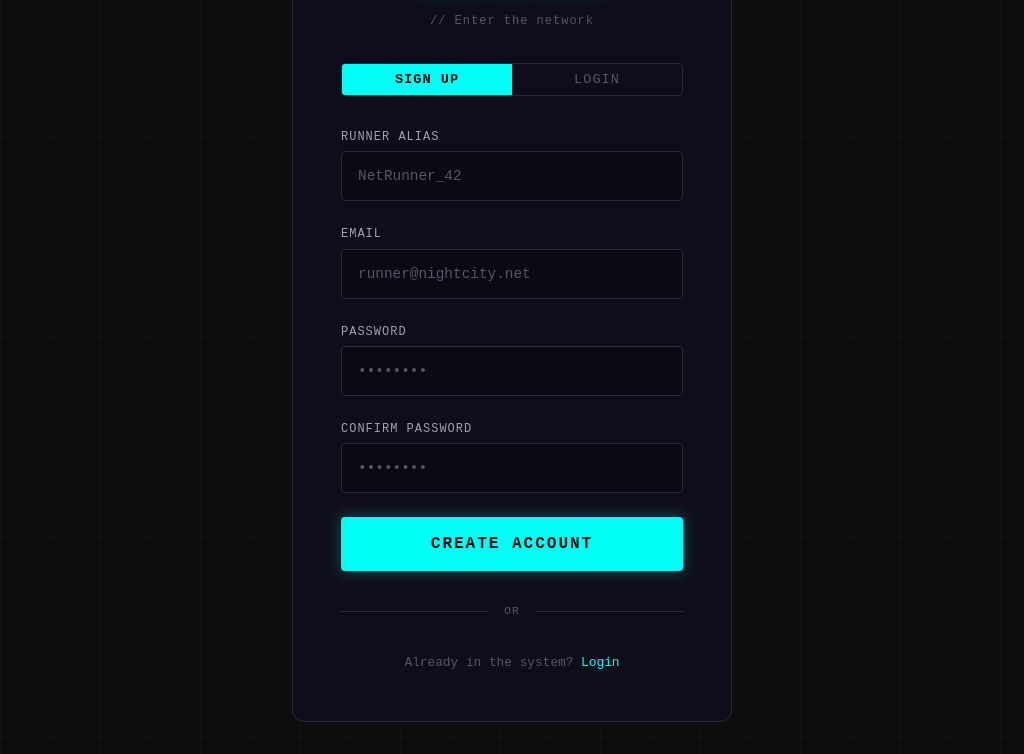
Scenario: RegistrationPage › switches to login via sign up form link
(page scrolled)
Step 1. Click the button "Login" next to "Already in the system?" → (600, 662), box [581,655,620,670]
(page scrolled)
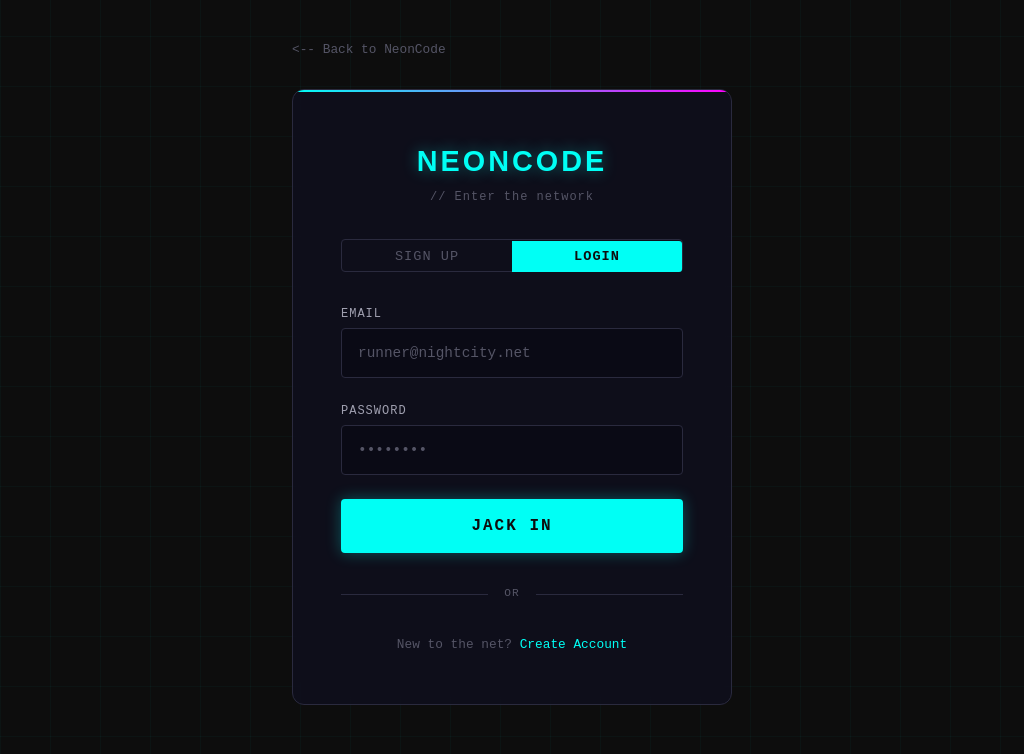
Check: the button "Jack In" is shown, box [341,499,683,553]
